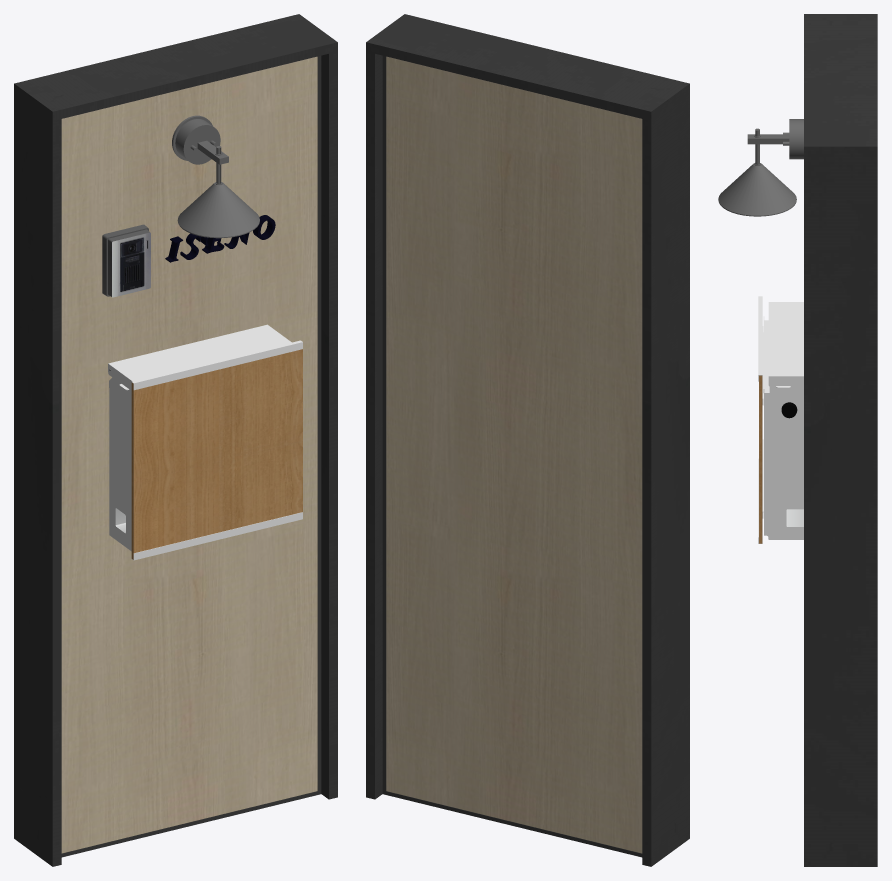
Rendered from 640-1620_springoak.fbx.
The picture shows the model from 3 angles, left to right: view 1: azimuth 30°, elevation 25°; view 2: azimuth 150°, elevation 25°; view 3: azimuth 270°, elevation 25°; orthographic projection. The views are drawn at different scales.
Visible parts, largest first — view 1: 640-1620_springoak; view 2: 640-1620_springoak; view 3: 640-1620_springoak.
Part boxes in pixels (x1,y1,x2,y2): 640-1620_springoak: (14, 14, 337, 866); 640-1620_springoak: (366, 14, 689, 866); 640-1620_springoak: (718, 14, 877, 866).
Size of the model in its own units: 64 by 162 by 32.47.
14 materials, 5 textured.
